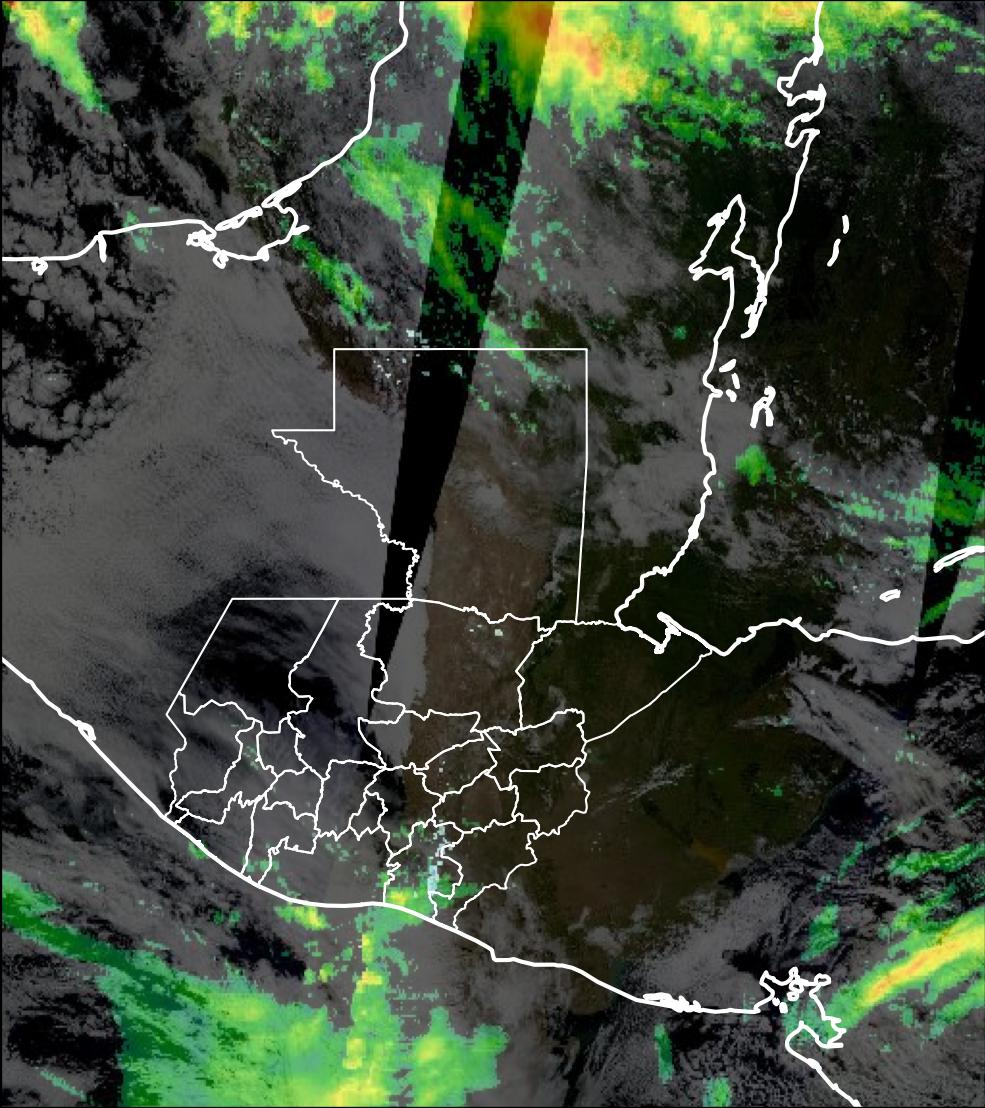precipitacion: (504, 1, 613, 93)
